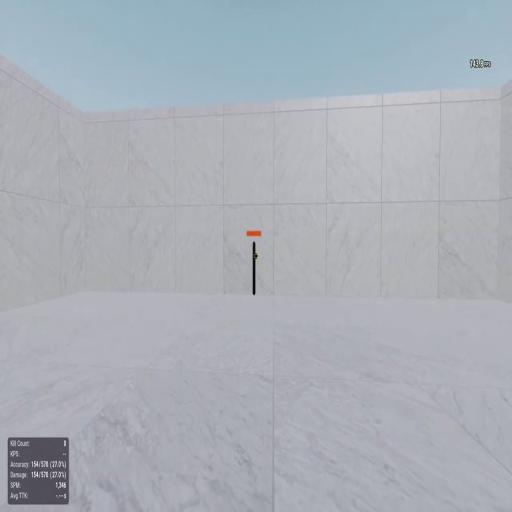Crosshair: (253, 252, 259, 260)
Target: (252, 243, 256, 293)
